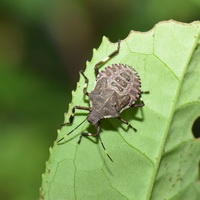insect: (56, 40, 148, 143)
